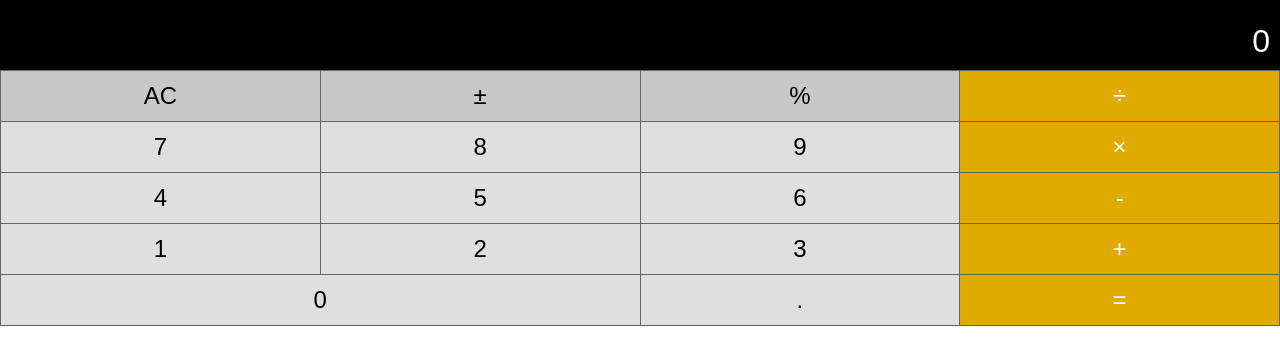
Test case: TYPE_NUMBER › should display 2 when press 2
Click the text with id "key-2". click: (481, 249)
box: [321,224,640,274]
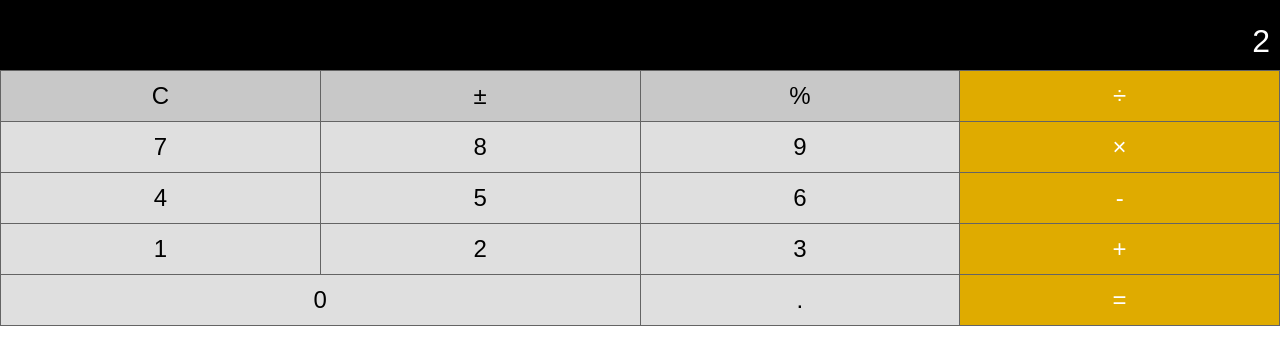
Result: the 1st text "2" is shown at [0,0,1279,70]
